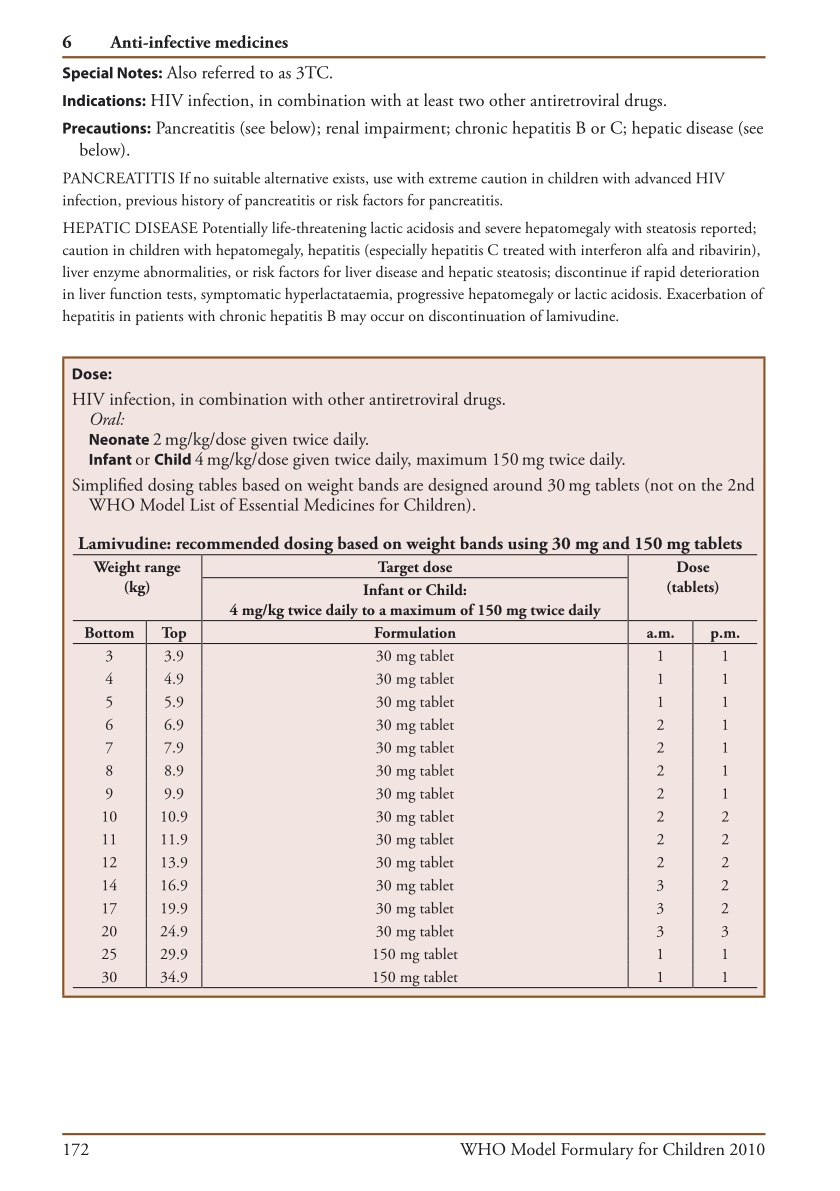partial_lined_merged_cells: (61, 355, 767, 999)
